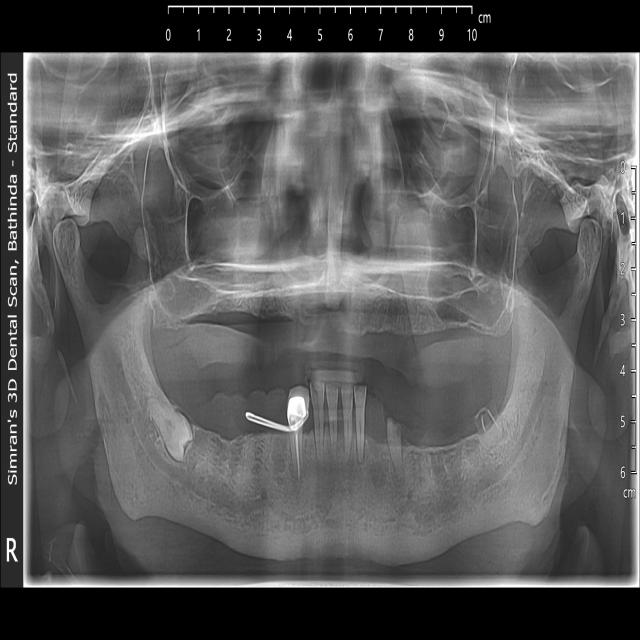Filling: (287, 402, 306, 431)
Missing teeth: (182, 310, 479, 351), (199, 405, 288, 450), (418, 423, 483, 482)
Root Canal Treatment: (286, 382, 313, 476)
